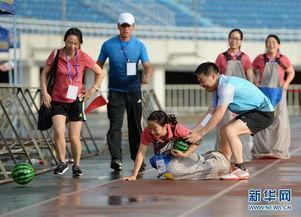Fall-Detected: (121, 105, 236, 181)
